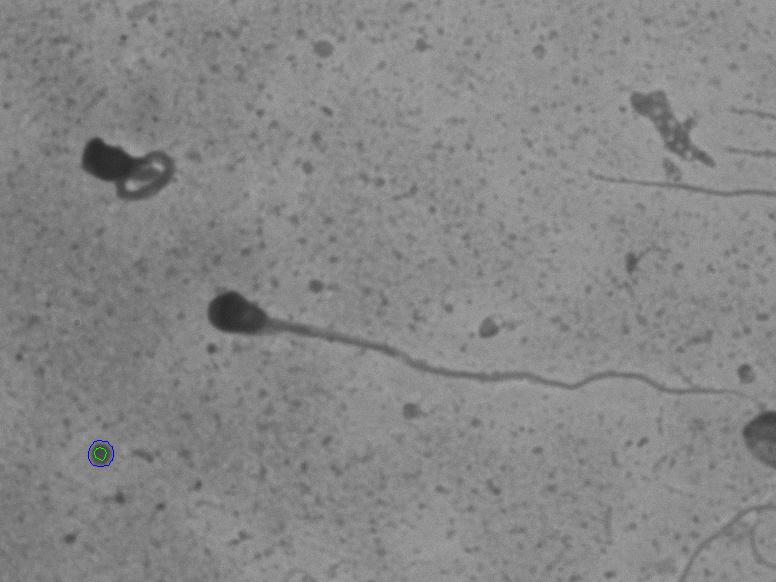Abnormal: (191, 284, 747, 445)
